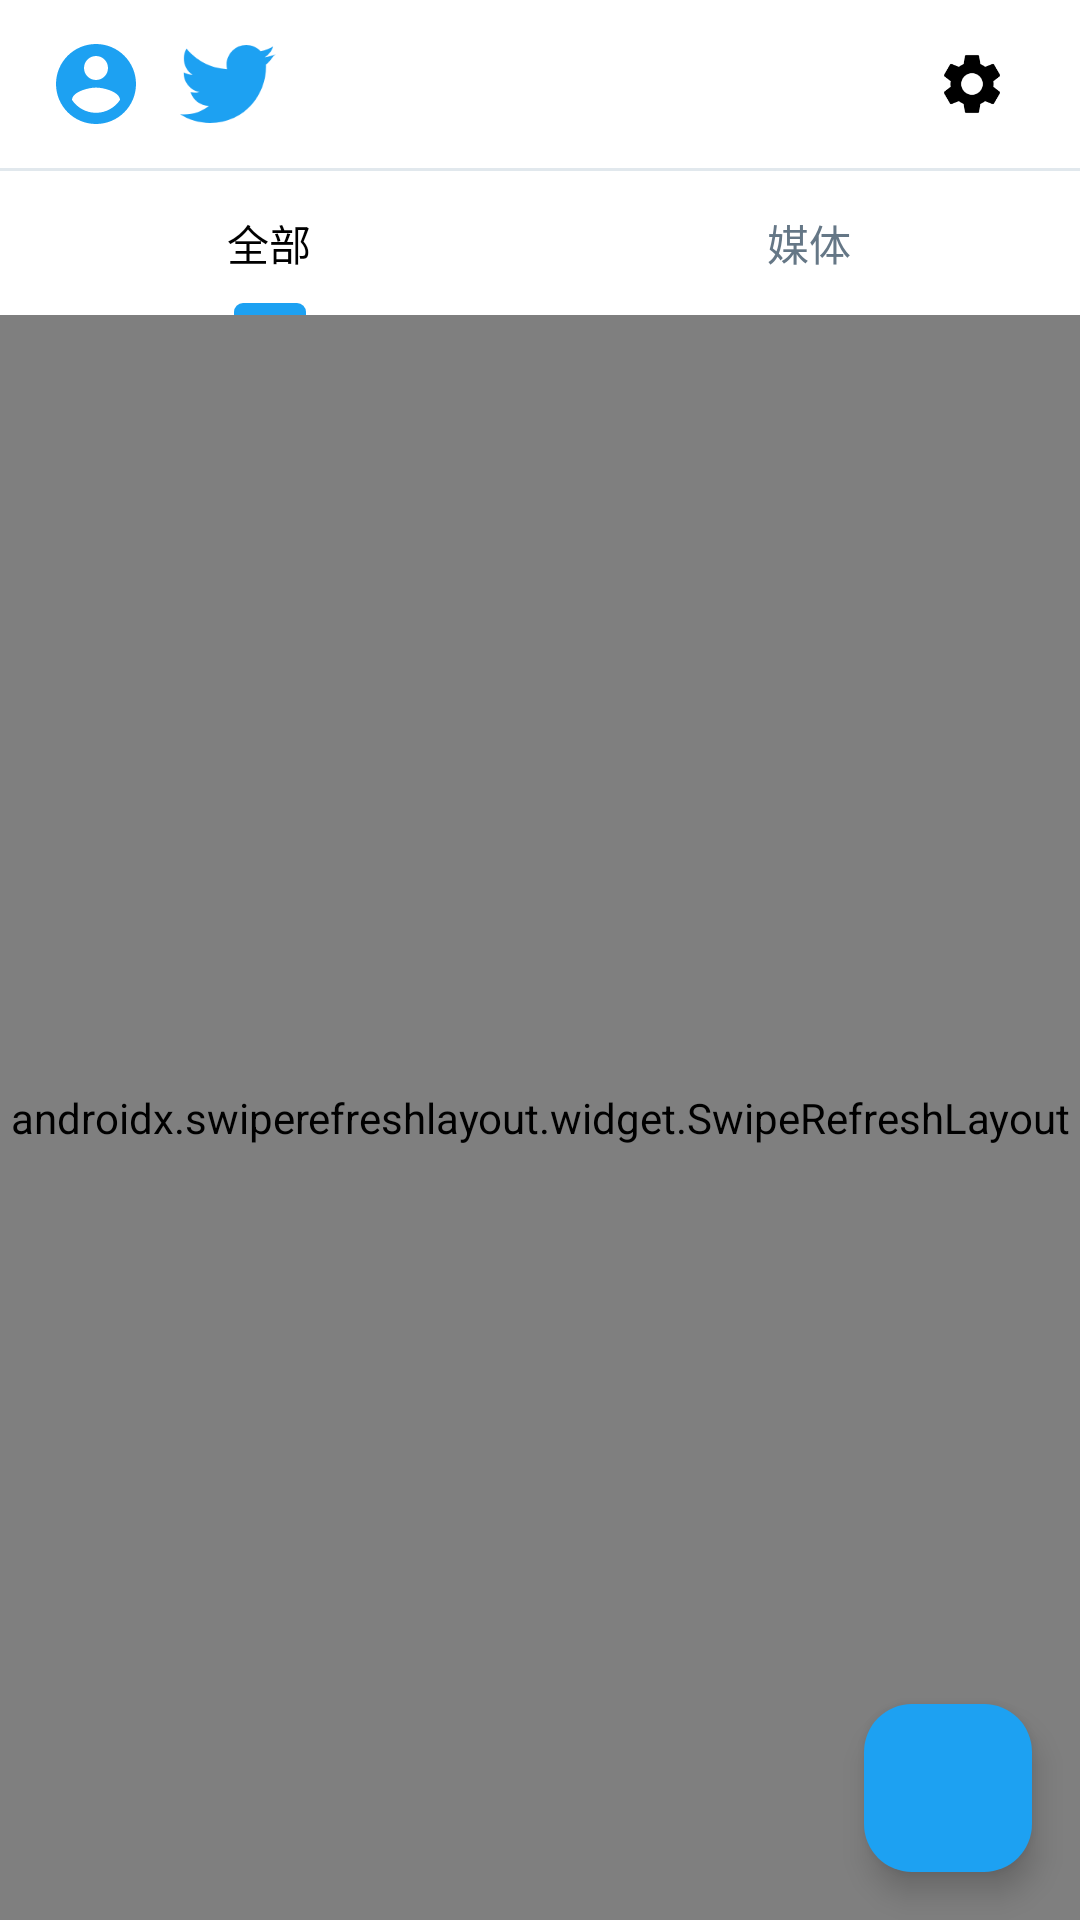

Named icons in this screenshot (1080 × 1920) and their centers, (x=x, y=y):
settings: (x=972, y=84)
